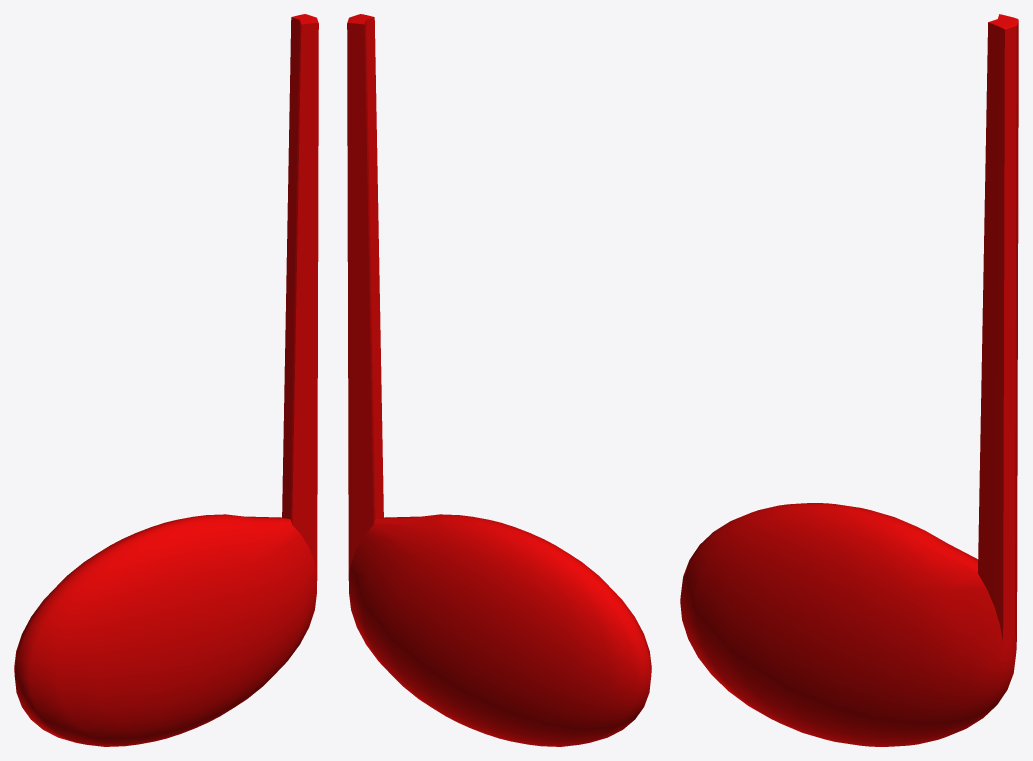
File: Note.fbx
3 views of the same model, side by side, from view 1: azimuth 30°, elevation 25°; view 2: azimuth 150°, elevation 25°; view 3: azimuth 330°, elevation 25° (orthographic). The views are drawn at different scales.
Visible parts, largest first — view 1: cSharpMale_0007:pSphere1; view 2: cSharpMale_0007:pSphere1; view 3: cSharpMale_0007:pSphere1.
Part boxes in pixels (x1,y1,x2,y2): cSharpMale_0007:pSphere1: (14,14,318,746); cSharpMale_0007:pSphere1: (347,14,651,746); cSharpMale_0007:pSphere1: (680,14,1018,746).
Bounding box in the file's own units: 1.8 × 3.9 × 0.5317.
